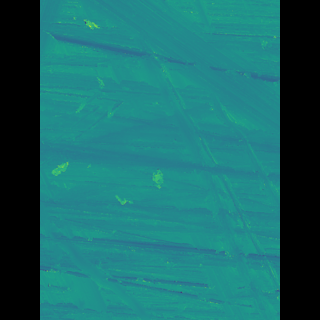Loch: (97, 0, 249, 139), (79, 231, 153, 319)
